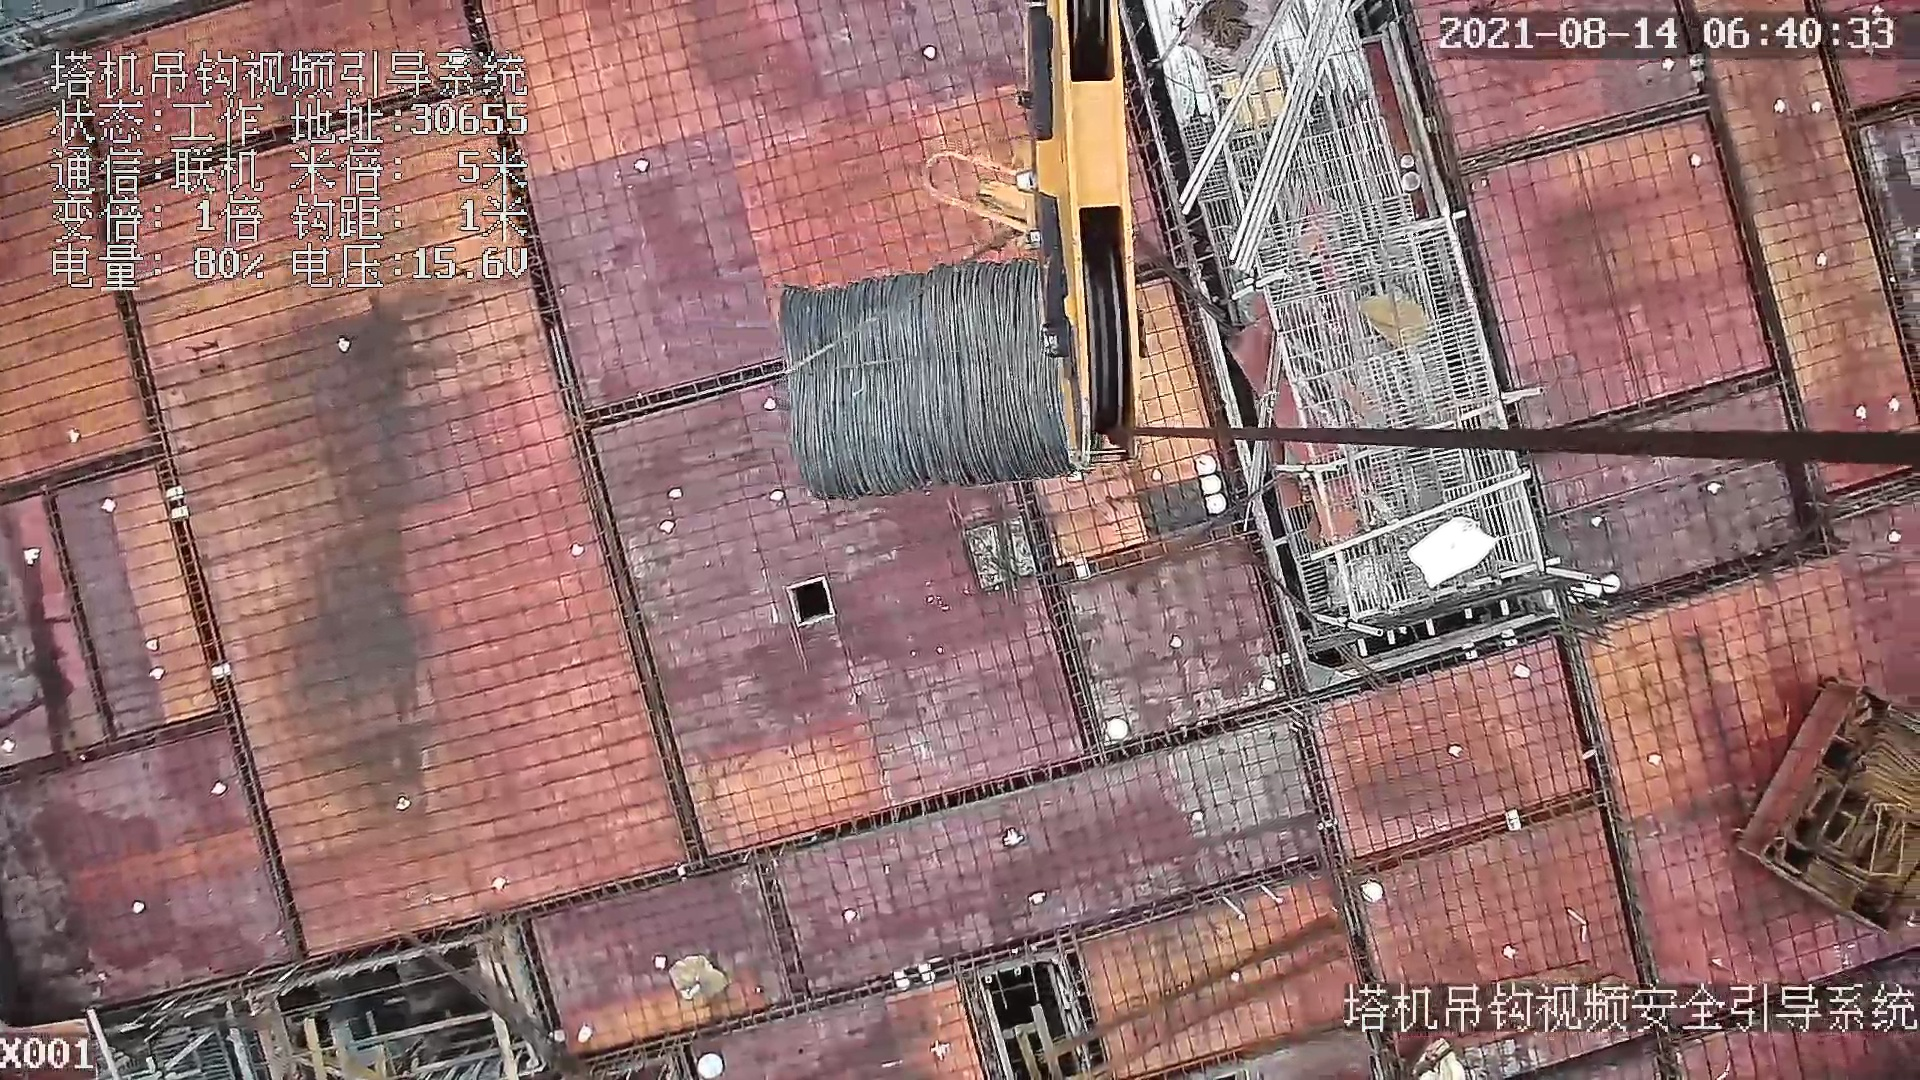hook: (913, 1, 1155, 469)
